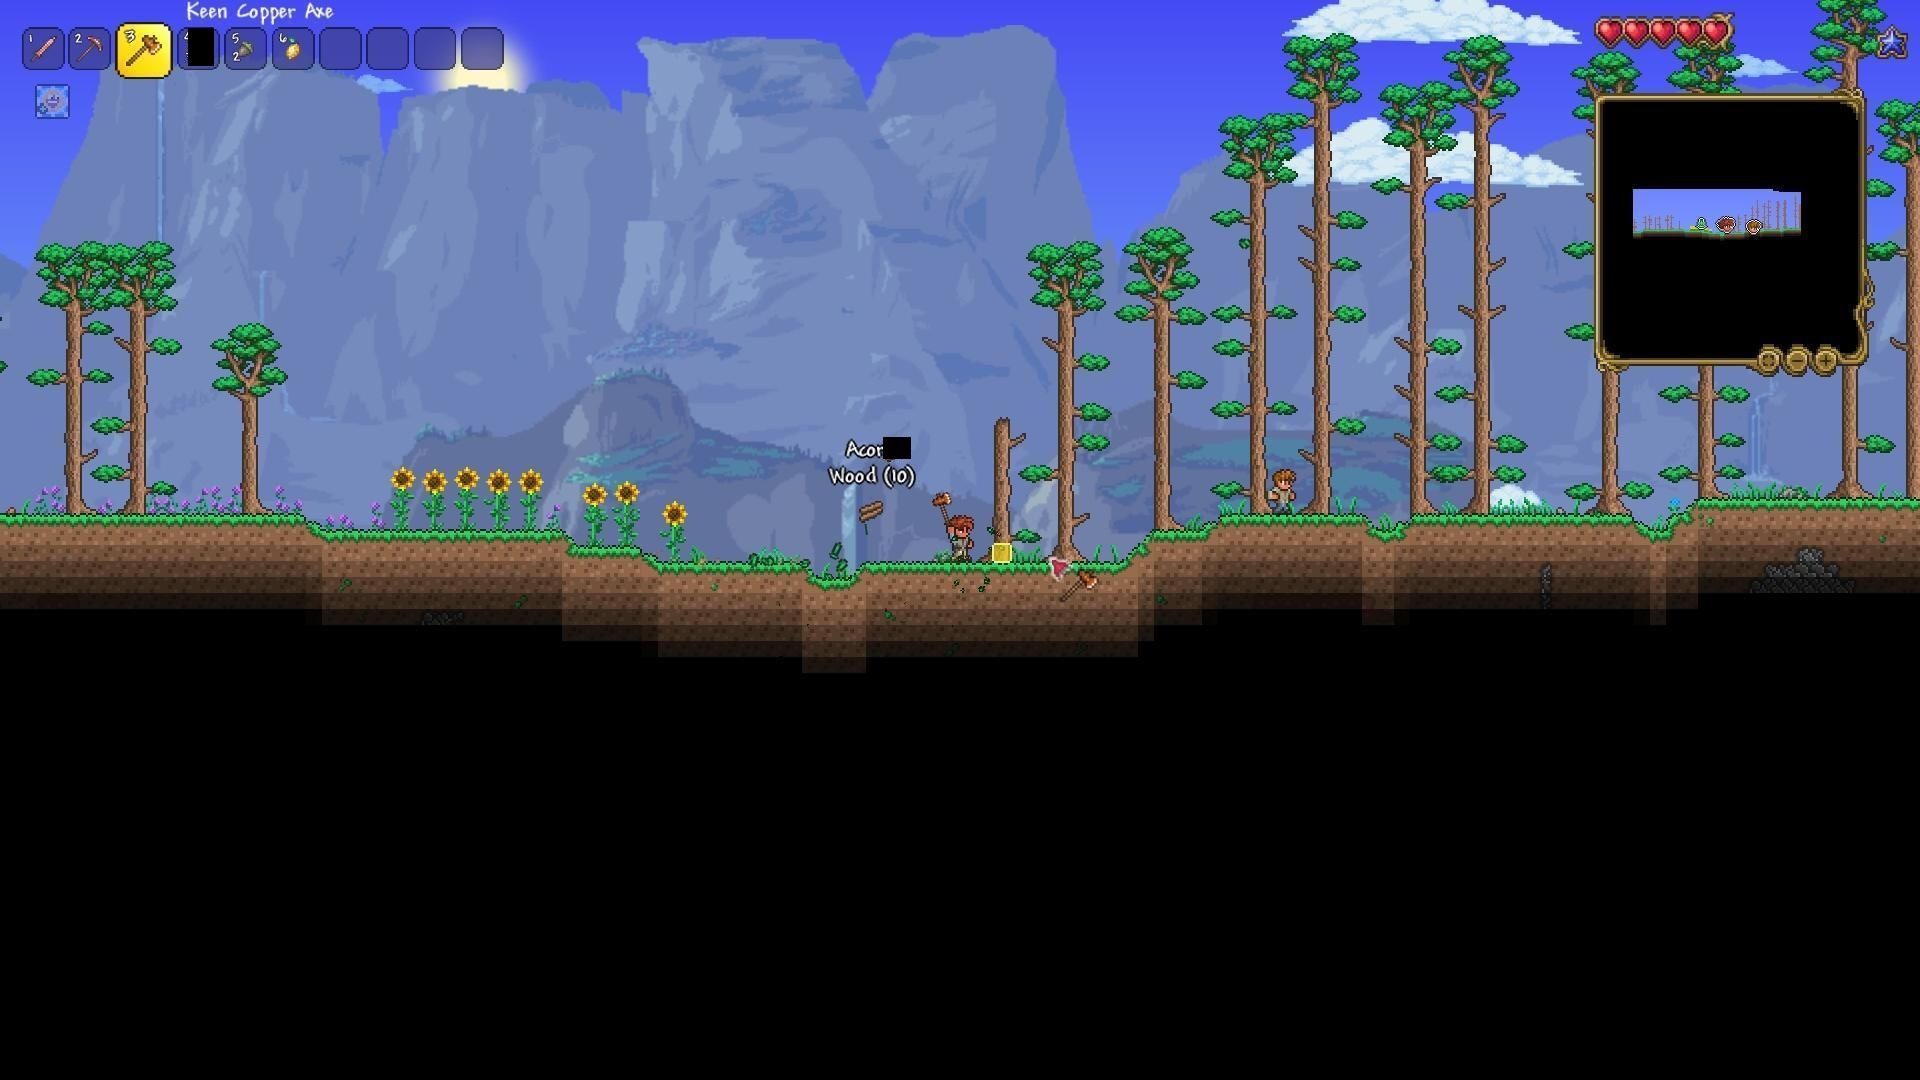wood: (856, 492, 887, 521)
